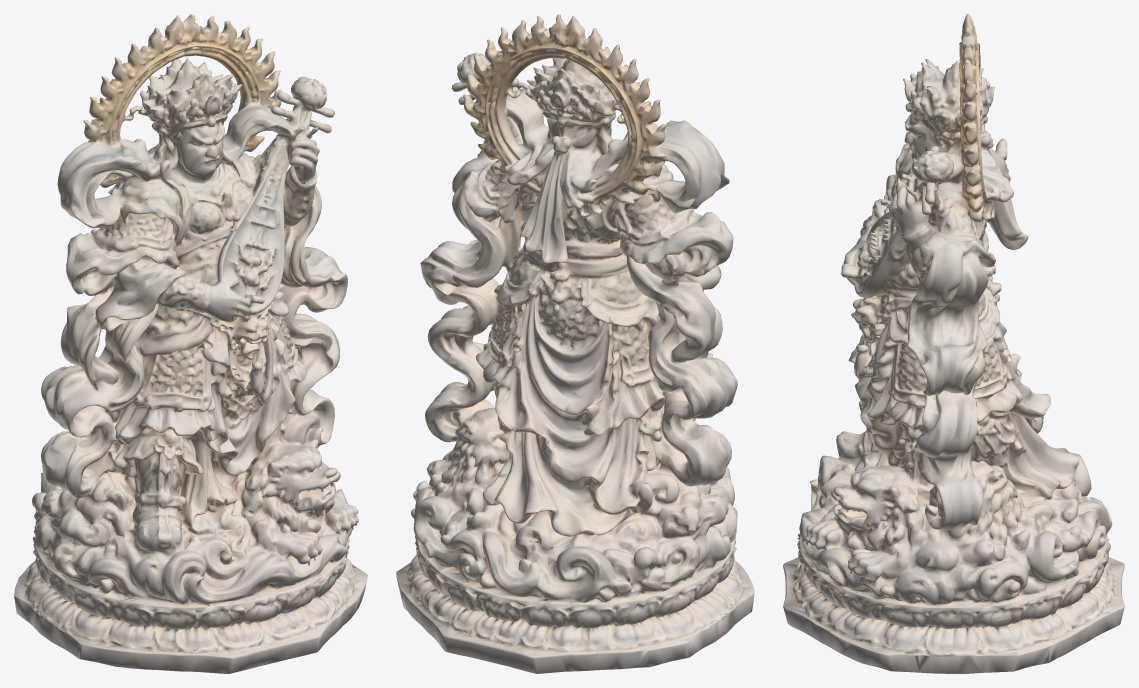
The picture shows the model from 3 angles, left to right: view 1: azimuth 30°, elevation 25°; view 2: azimuth 150°, elevation 25°; view 3: azimuth 270°, elevation 25°; orthographic projection.
Visible parts, largest first — view 1: four-heavenly-kings-01; view 2: four-heavenly-kings-01; view 3: four-heavenly-kings-01.
Part boxes in pixels (left/top/right/bottom): four-heavenly-kings-01: left=14, top=14, right=367, bottom=673; four-heavenly-kings-01: left=396, top=14, right=754, bottom=673; four-heavenly-kings-01: left=783, top=14, right=1124, bottom=673.
Size of the model in its own units: 0.5275 by 0.9998 by 0.5315.
Materials: 1 (1 with a texture image).
